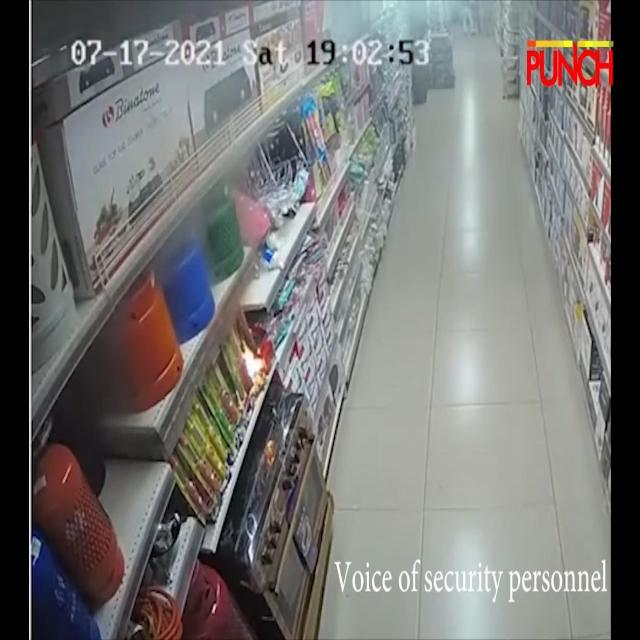fire: (242, 338, 262, 376)
